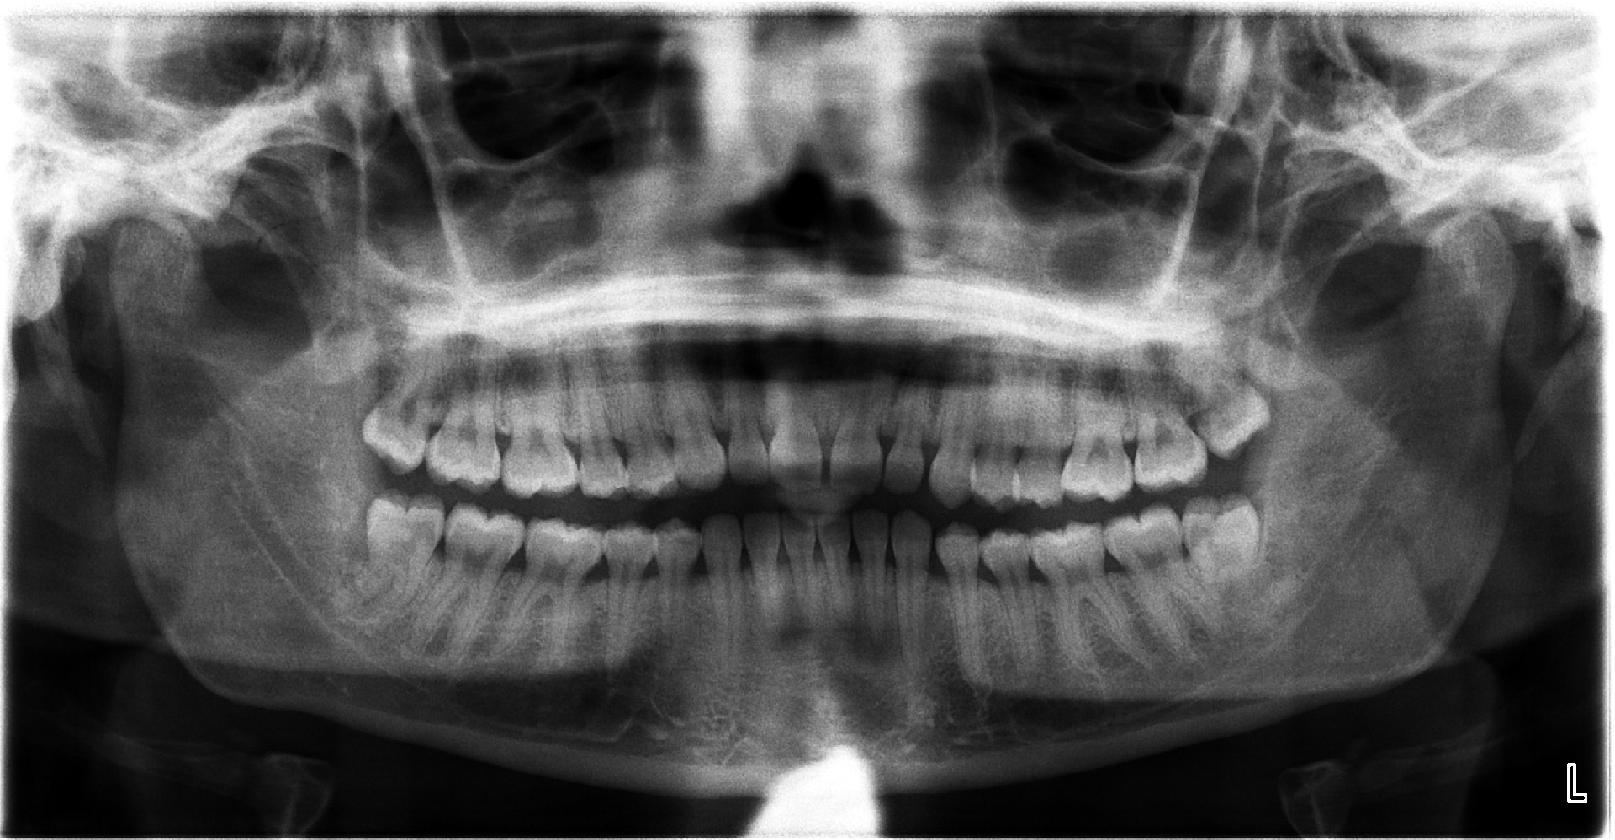Erupted: (347, 498, 448, 638), (1183, 494, 1265, 604)
